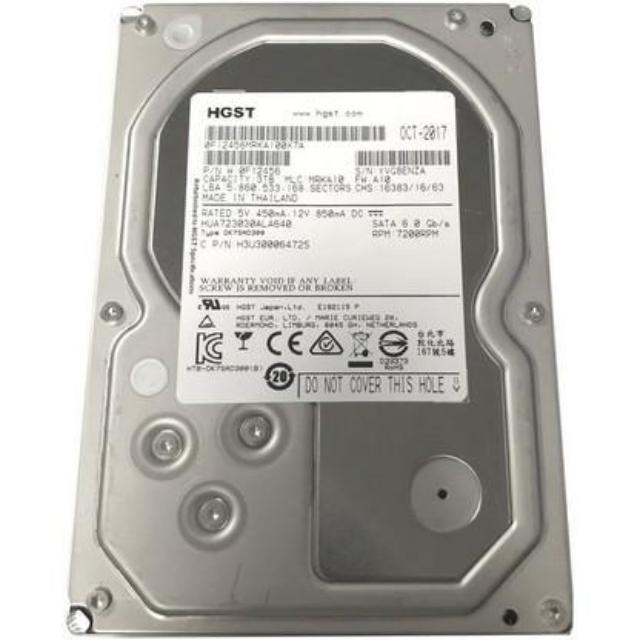DISK: (71, 0, 577, 640)
